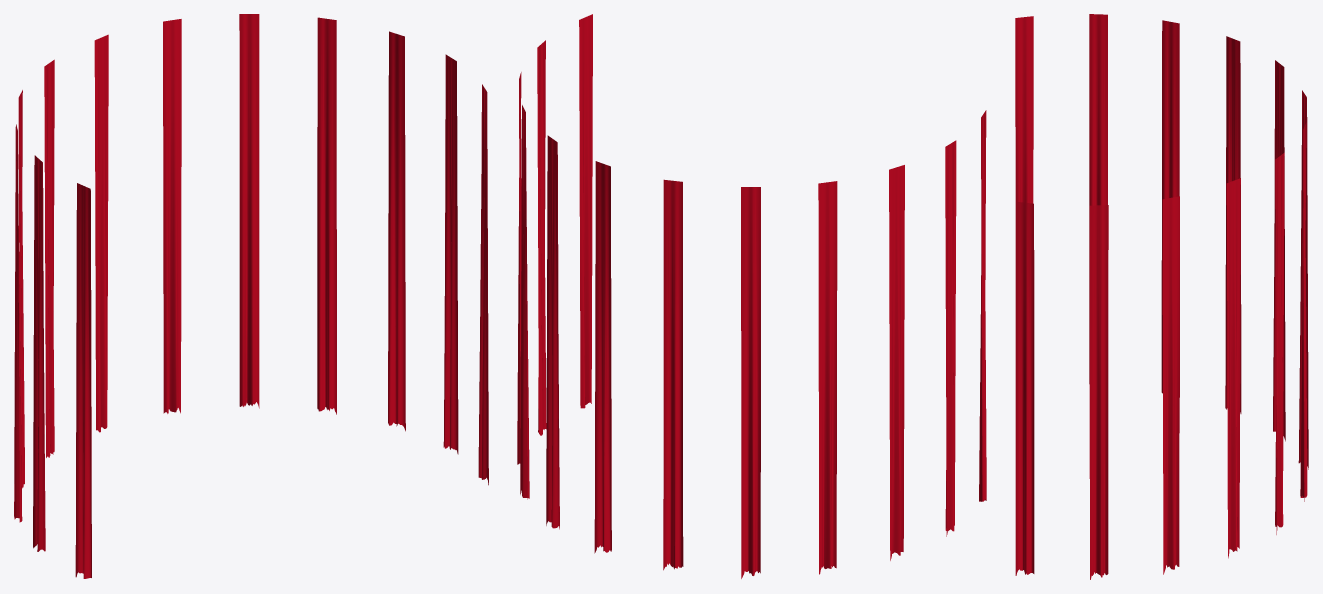
Rendered from Mesh_Curtains_Dome.fbx.
3 renders of one model, left to right at view 1: azimuth 30°, elevation 25°; view 2: azimuth 150°, elevation 25°; view 3: azimuth 270°, elevation 25°, orthographic. The views are drawn at different scales.
Visible parts, largest first — view 1: Telas_Interior_Colgantes; view 2: Telas_Interior_Colgantes; view 3: Telas_Interior_Colgantes.
Part boxes in pixels (x1,y1,x2,y2): Telas_Interior_Colgantes: (14,14,488,578); Telas_Interior_Colgantes: (517,14,986,578); Telas_Interior_Colgantes: (1015,14,1308,579).
Size of the model in its own units: 1468 by 2287 by 2073.
